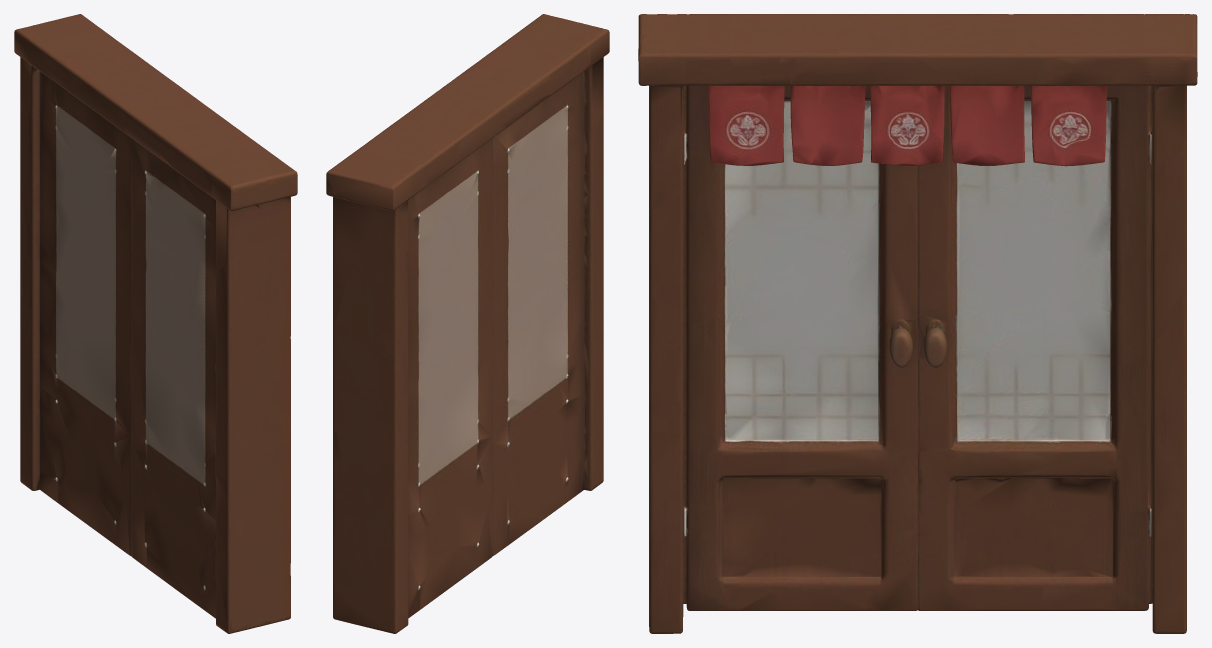
The model's file is KR_사물_s1_entrance_door_closed_old.glb.
The picture shows the model from 3 angles, left to right: view 1: azimuth 30°, elevation 25°; view 2: azimuth 150°, elevation 25°; view 3: azimuth 270°, elevation 25°; orthographic projection. The views are drawn at different scales.
Parts seen in each view (by area): view 1: tripo_node_d7c43a60-a532-49b2-aea7-4457b820fbd4; view 2: tripo_node_d7c43a60-a532-49b2-aea7-4457b820fbd4; view 3: tripo_node_d7c43a60-a532-49b2-aea7-4457b820fbd4.
Boxes of the visible parts, x1=… form: tripo_node_d7c43a60-a532-49b2-aea7-4457b820fbd4: x1=14, y1=14, x2=297, y2=633; tripo_node_d7c43a60-a532-49b2-aea7-4457b820fbd4: x1=326, y1=14, x2=609, y2=633; tripo_node_d7c43a60-a532-49b2-aea7-4457b820fbd4: x1=638, y1=14, x2=1197, y2=633.
Size of the model in its own units: 0.1558 by 1 by 0.8714.
1 material, 1 textured.
